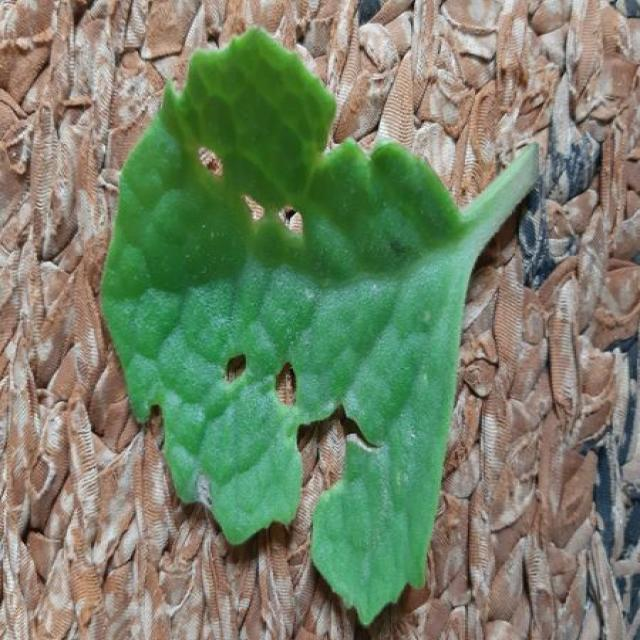doddpathre: (102, 29, 537, 623)
